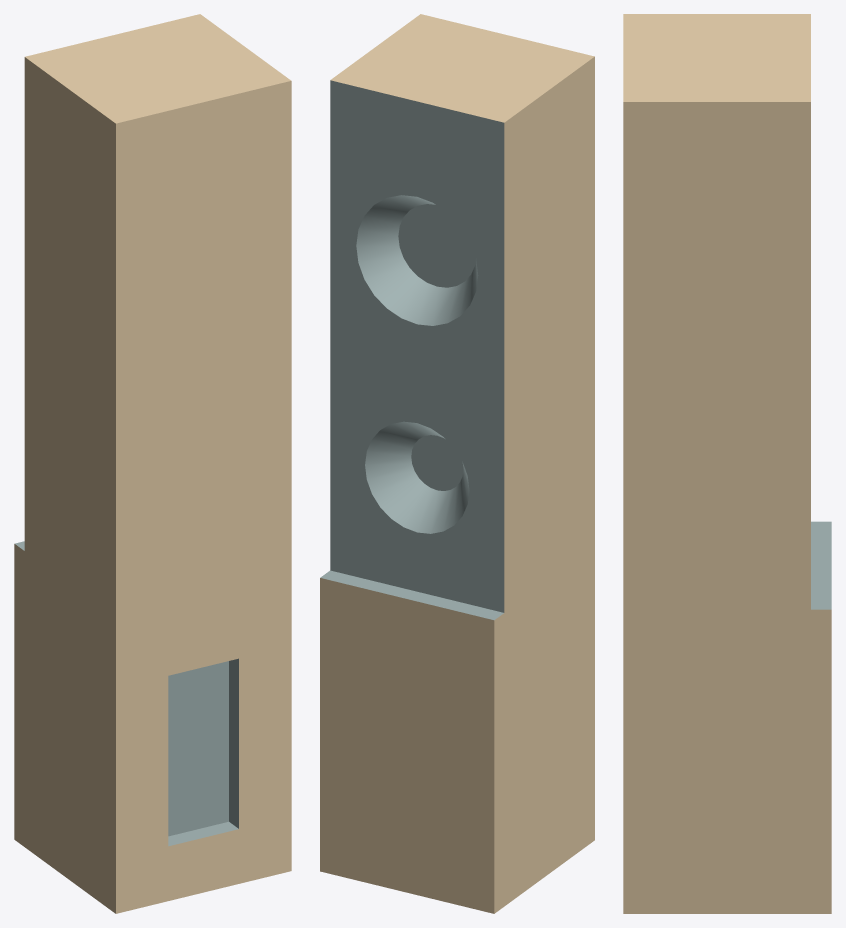
Rendered from speaker.glb.
3 views of the same model, side by side, from view 1: azimuth 30°, elevation 25°; view 2: azimuth 150°, elevation 25°; view 3: azimuth 270°, elevation 25° (orthographic). The views are drawn at different scales.
Parts seen in each view (by area): view 1: speaker; view 2: speaker; view 3: speaker.
Part boxes in pixels (left/top/right/bottom): speaker: left=14, top=14, right=291, bottom=913; speaker: left=320, top=14, right=594, bottom=913; speaker: left=623, top=14, right=831, bottom=913.
Bounding box in the file's own units: 1.48 × 6.36 × 1.48.
